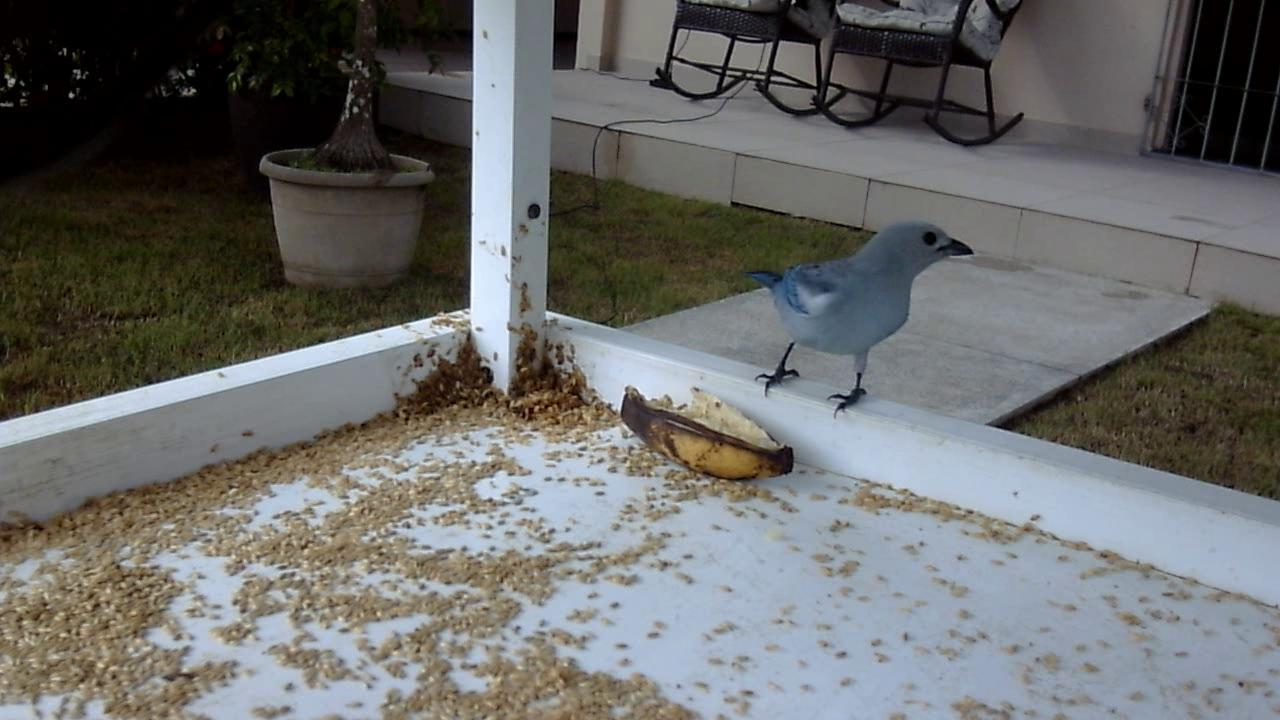sanhaco_da_amazonia: (736, 209, 977, 431)
